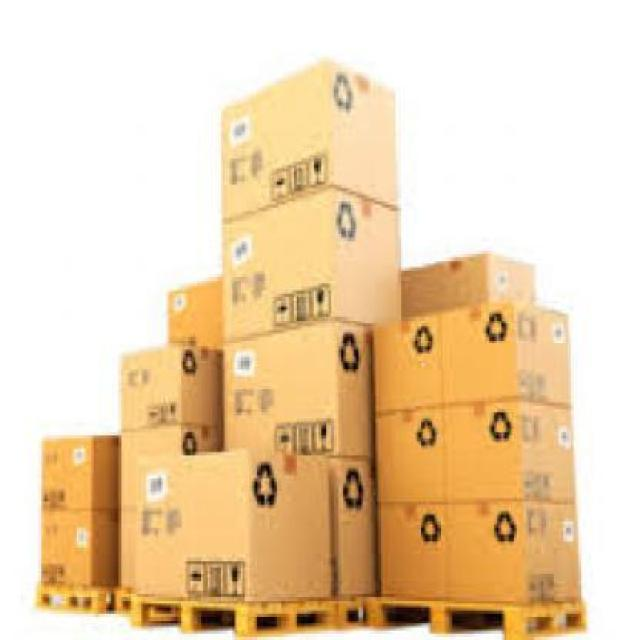box: (129, 446, 329, 602), (220, 57, 394, 218), (220, 182, 398, 323), (220, 314, 369, 452), (117, 426, 226, 591), (448, 496, 577, 604), (440, 297, 566, 403), (436, 403, 570, 499), (363, 297, 465, 412), (398, 248, 532, 314), (118, 340, 220, 422), (374, 496, 455, 598), (370, 406, 444, 499), (37, 504, 117, 584), (329, 455, 374, 594), (40, 432, 117, 510), (166, 271, 225, 343)
